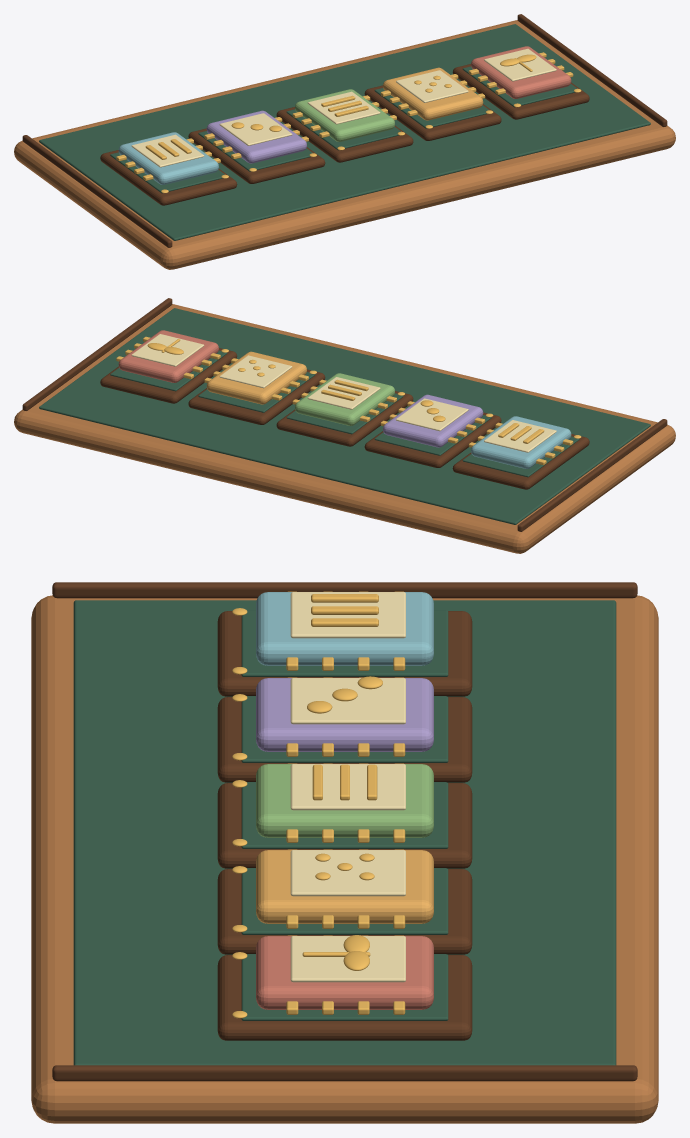
Rendered from workshop.glb.
3 views of the same model, one above another, from view 1: azimuth 30°, elevation 25°; view 2: azimuth 150°, elevation 25°; view 3: azimuth 270°, elevation 25° (orthographic). The views are drawn at different scales.
Visible parts, largest first — view 1: workmat, worktable, context_body, tokenizer_body, learner_body, sampler_body, predictor_body, socket_tokenizer, socket_predictor, socket_learner, socket_context, socket_sampler (+12 smaller); view 2: workmat, worktable, learner_body, context_body, tokenizer_body, sampler_body, predictor_body, socket_tokenizer, socket_learner, socket_predictor, socket_sampler, socket_context (+12 smaller); view 3: workmat, worktable, work_rim1, work_rim-1, socket_learner, context_body, predictor_body, tokenizer_body, learner_body, sampler_body, sampler_badge, socket_context (+12 smaller).
Part boxes in pixels (x1=…): workmat: x1=39, y1=24, x2=650, y2=240; worktable: x1=14, y1=20, x2=675, y2=269; context_body: x1=206, y1=110, x2=306, y2=163; tokenizer_body: x1=118, y1=132, x2=218, y2=184; learner_body: x1=471, y1=46, x2=571, y2=98; sampler_body: x1=383, y1=67, x2=483, y2=120; predictor_body: x1=295, y1=89, x2=394, y2=141; socket_tokenizer: x1=100, y1=150, x2=237, y2=205; socket_predictor: x1=276, y1=107, x2=413, y2=162; socket_learner: x1=452, y1=64, x2=589, y2=119; socket_context: x1=188, y1=128, x2=325, y2=183; socket_sampler: x1=364, y1=85, x2=501, y2=140; workmat: x1=39, y1=308, x2=650, y2=524; worktable: x1=14, y1=304, x2=675, y2=553; learner_body: x1=118, y1=330, x2=218, y2=382; context_body: x1=383, y1=394, x2=483, y2=447; tokenizer_body: x1=471, y1=416, x2=571, y2=468; sampler_body: x1=206, y1=351, x2=306, y2=404; predictor_body: x1=295, y1=373, x2=394, y2=425; socket_tokenizer: x1=452, y1=434, x2=589, y2=489; socket_learner: x1=100, y1=348, x2=237, y2=403; socket_predictor: x1=276, y1=391, x2=413, y2=446; socket_sampler: x1=188, y1=369, x2=325, y2=424; socket_context: x1=364, y1=412, x2=501, y2=467; workmat: x1=73, y1=600, x2=616, y2=1065; worktable: x1=31, y1=595, x2=658, y2=1123; work_rim1: x1=52, y1=1065, x2=637, y2=1081; work_rim-1: x1=52, y1=582, x2=637, y2=598; socket_learner: x1=217, y1=955, x2=472, y2=1040; context_body: x1=256, y1=678, x2=433, y2=751; predictor_body: x1=256, y1=764, x2=433, y2=837; tokenizer_body: x1=256, y1=592, x2=433, y2=665; learner_body: x1=256, y1=936, x2=433, y2=1009; sampler_body: x1=256, y1=850, x2=433, y2=923; sampler_badge: x1=290, y1=850, x2=405, y2=896; socket_context: x1=217, y1=697, x2=472, y2=782.
Bounding box in the file's own units: 7 × 0.676 × 3.7.
